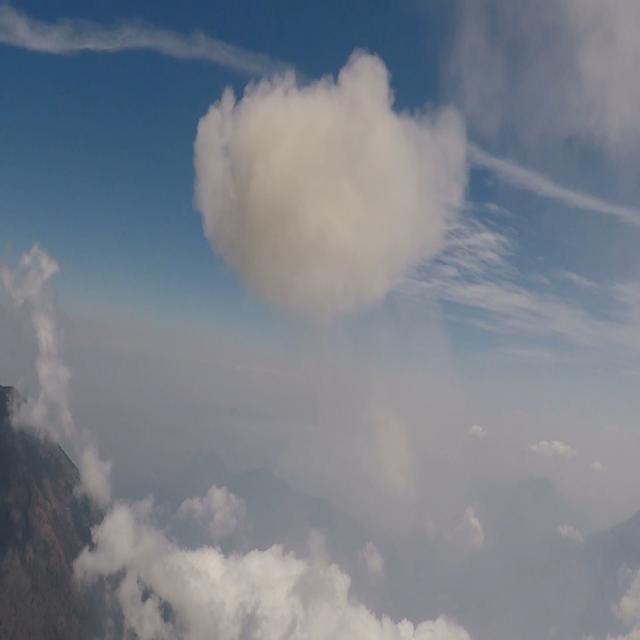Plume: (188, 54, 485, 340)
